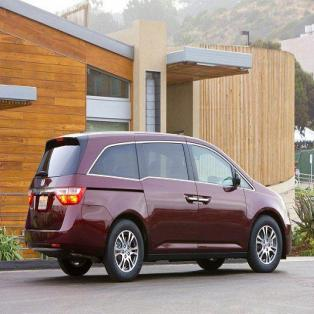Auto: (25, 130, 291, 283)
